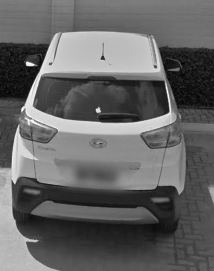car: (10, 30, 191, 235)
